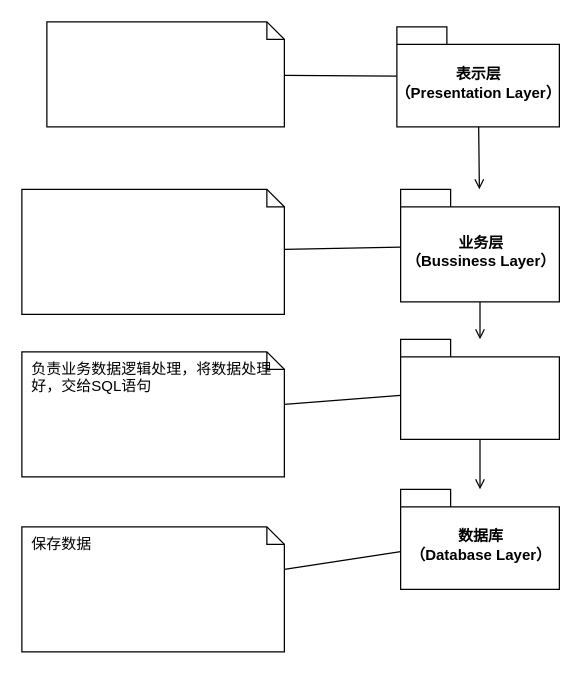
Some shapes in this 583 by 674 pixel diagram are drawn without their labels. The shapes that lost their labels are listed below. From the top down, each one's box as (x1, y1, x2, y2) in pixels, then its label:
(46, 21, 284, 127): 表示层采用vue.js框架，负责展现业务数据和人机交互
(21, 188, 284, 314): 业务层 负责处理来自表示层的Request，实现业务逻辑
(399, 338, 559, 439): 持久层 （P ersistence Layer ）
